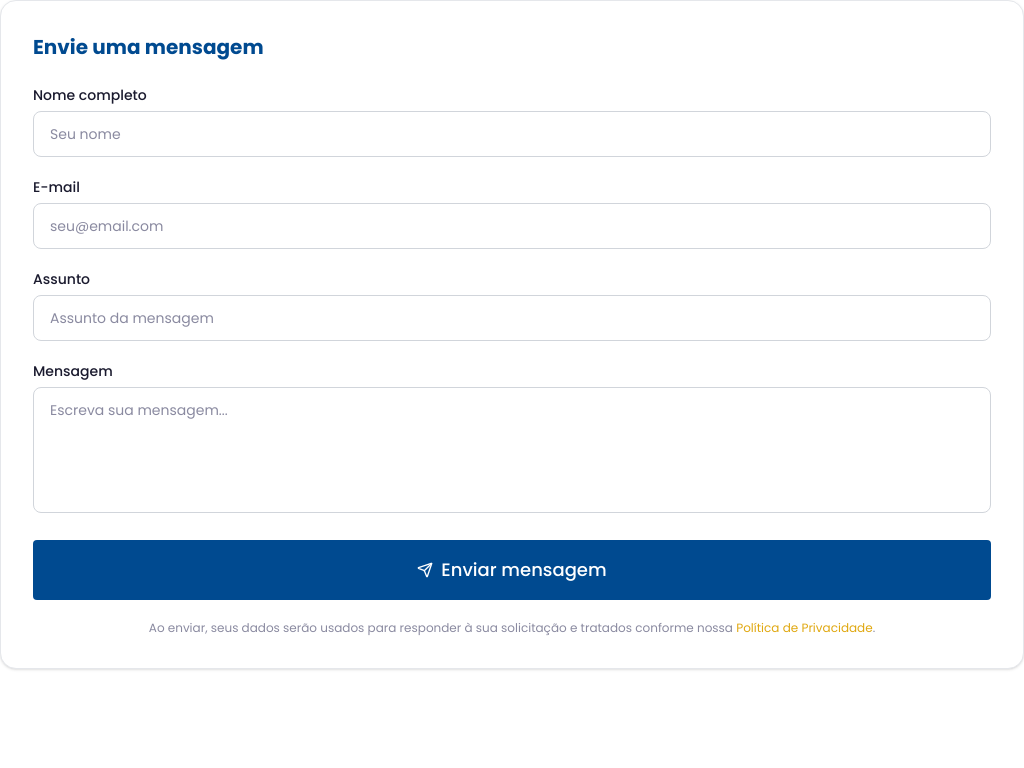
ContactForm › envia JSON para a API e limpa os campos após sucesso
Type "Maria da Silva" into the field labelled "Nome completo". click: (512, 134)
box: [33,111,991,157]
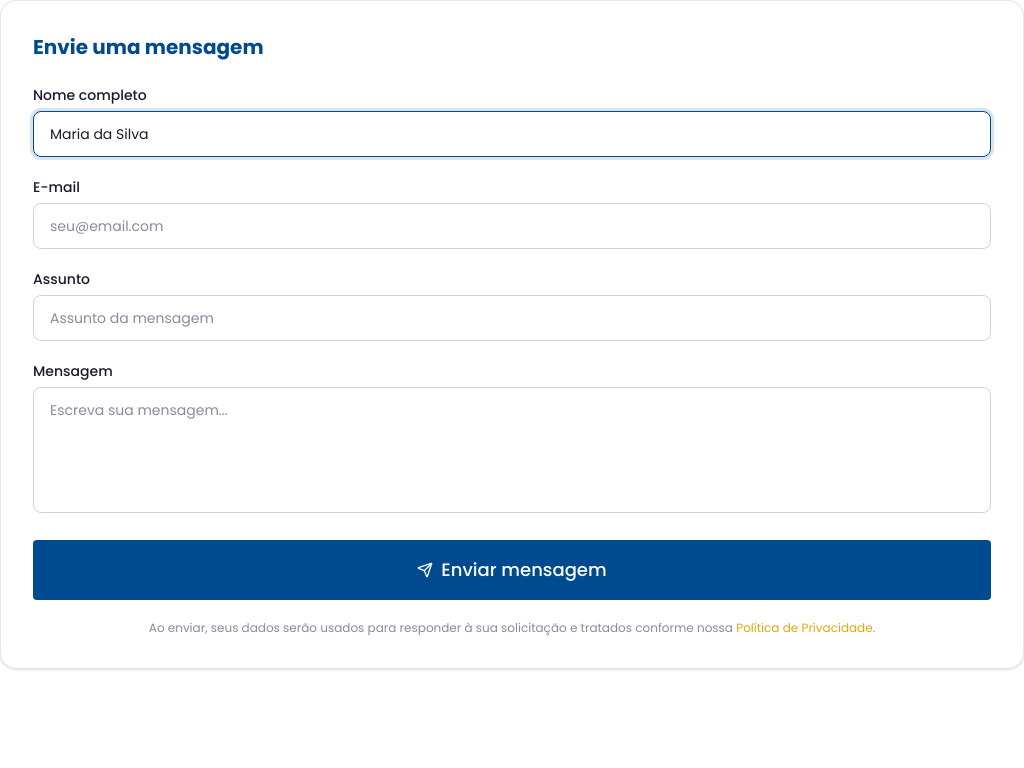
Type "maria@example.com" into the field labelled "E-mail". click: (512, 226)
box: [33,203,991,249]
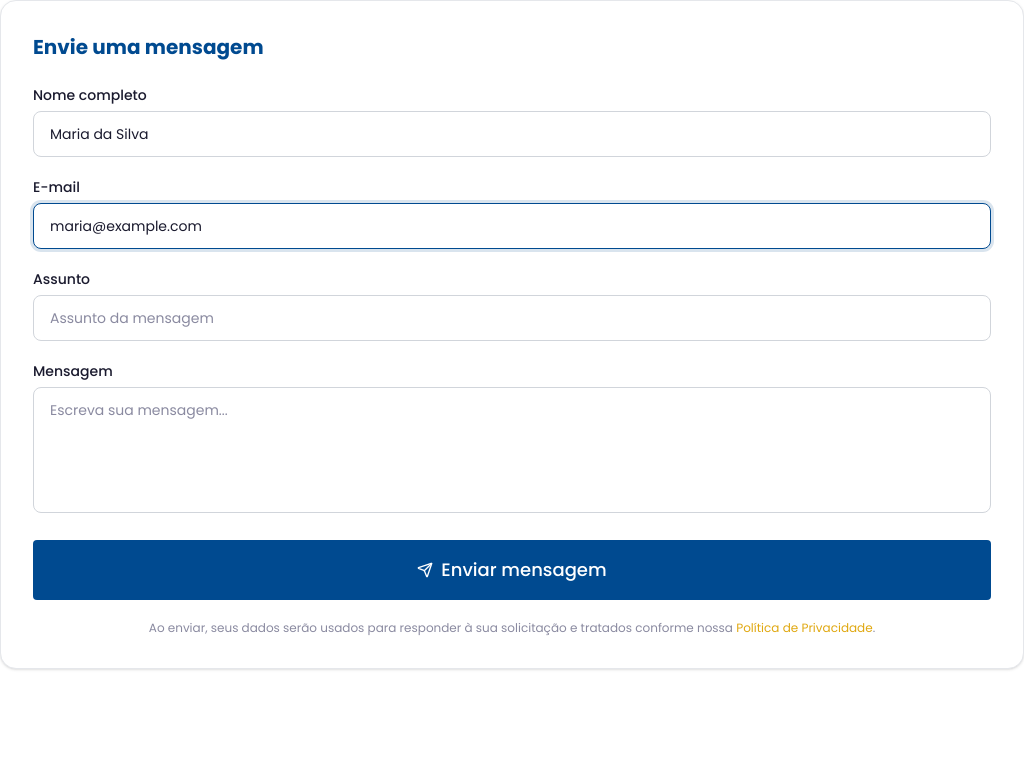
Type "Quero saber mais" into the field labelled "Assunto". click: (512, 318)
box: [33,295,991,341]
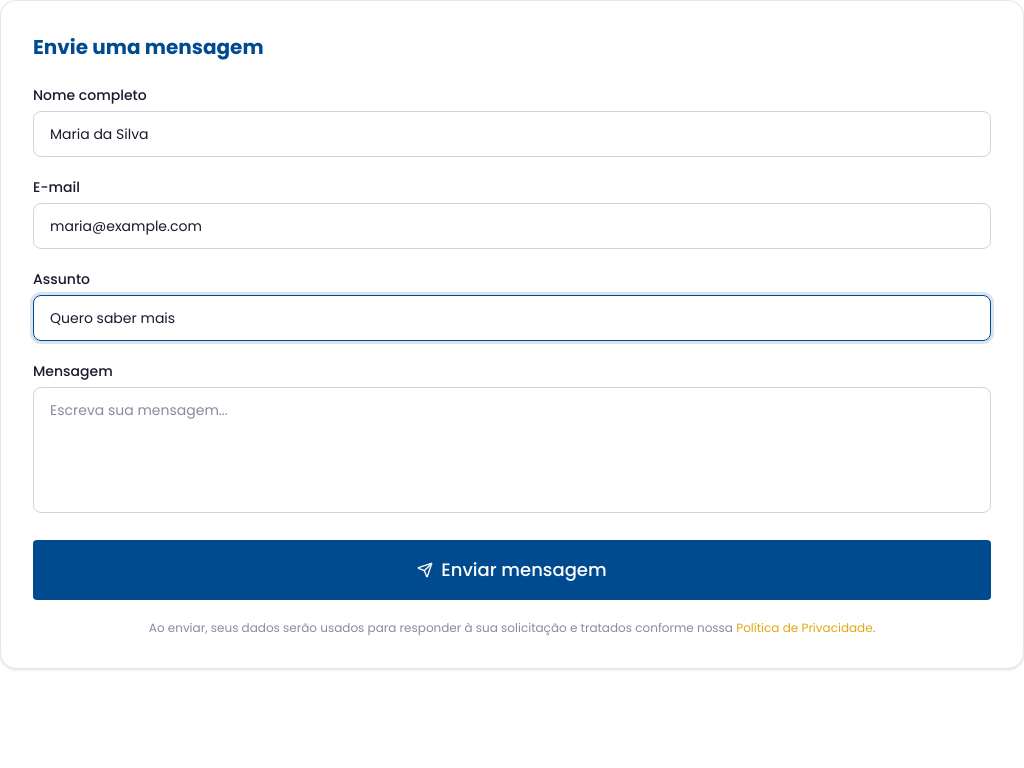
Type "Gostaria de conhecer os serviços oferecidos." into the text box labelled "Mensagem". click: (512, 450)
box: [33,387,991,513]
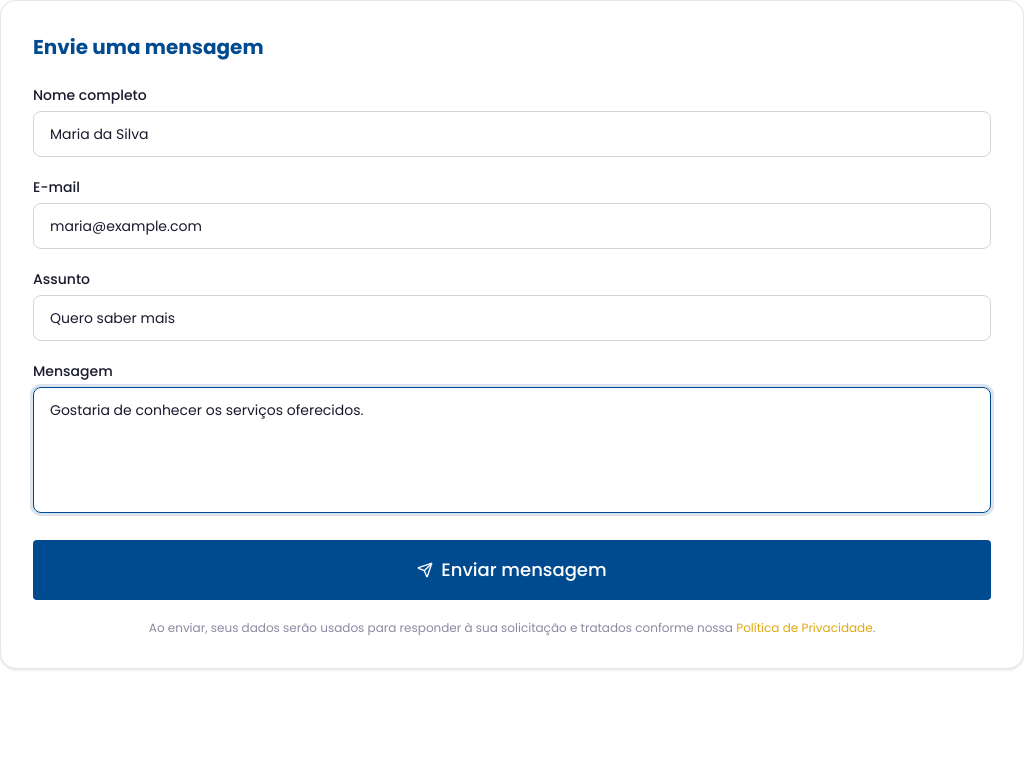
Click the button "Enviar mensagem". click: (512, 570)
box: [33,540,991,600]
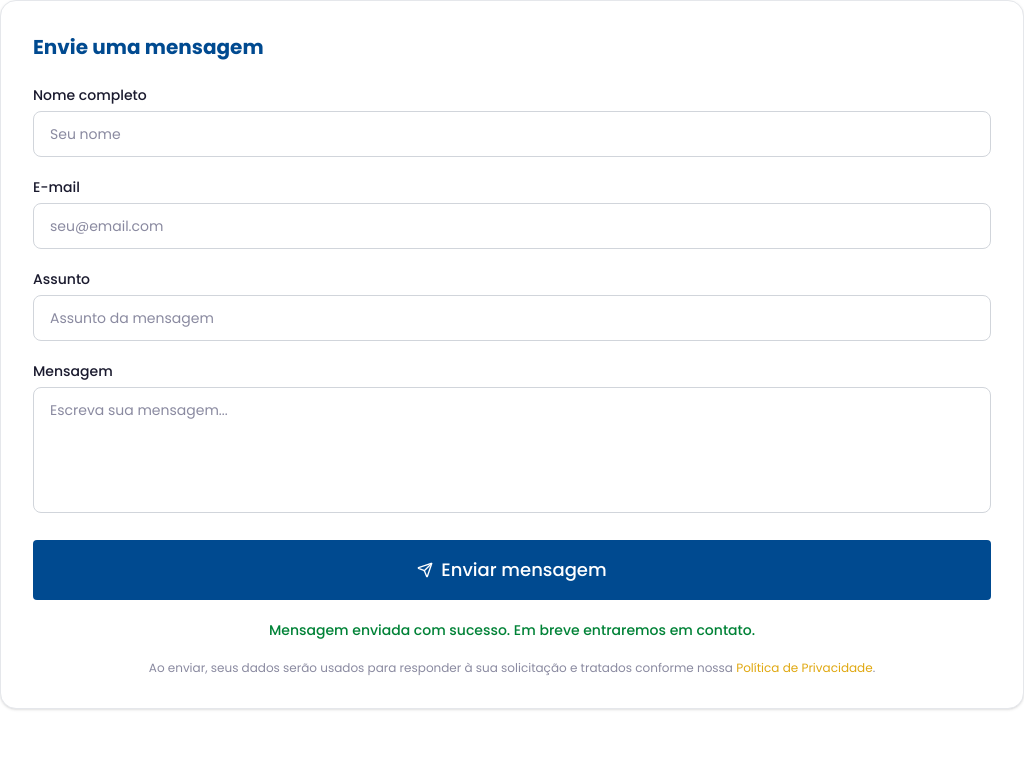
Check: the message shows "Mensagem enviada com sucesso.", box [269,620,755,640]
Check: the field labelled "Nome completo" is empty, box [33,111,991,157]
Check: the text box labelled "Mensagem" is empty, box [33,387,991,513]
